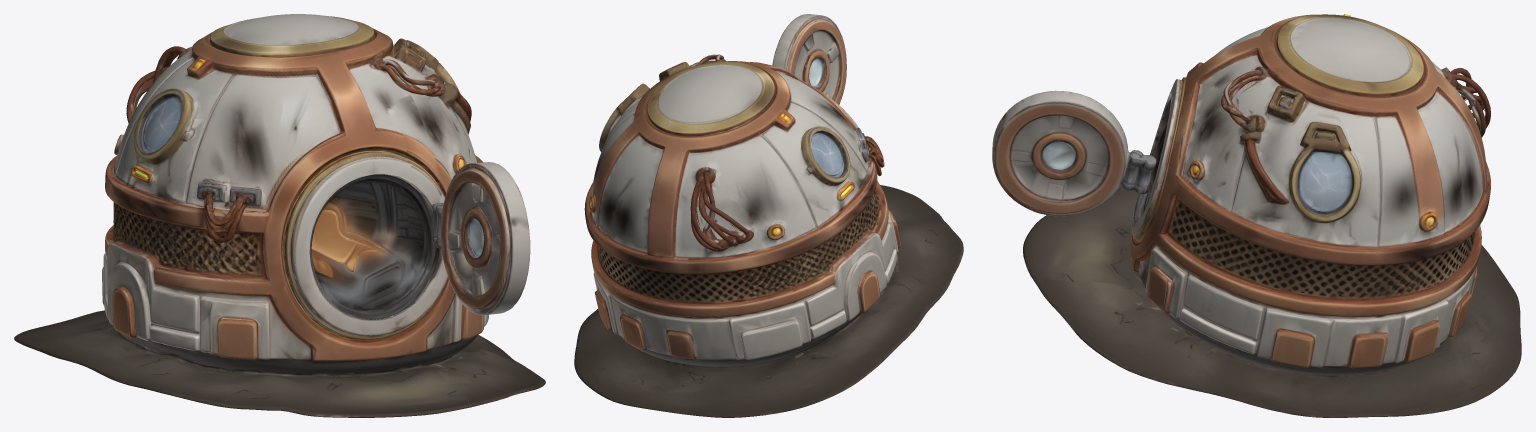
The model's file is escape_module.glb.
3 renders of one model, left to right at view 1: azimuth 30°, elevation 25°; view 2: azimuth 150°, elevation 25°; view 3: azimuth 270°, elevation 25°, orthographic. The views are drawn at different scales.
Visible parts, largest first — view 1: node_0; view 2: node_0; view 3: node_0.
Part boxes in pixels (x1,y1,x2,y2): node_0: [14, 14, 545, 417]; node_0: [574, 14, 963, 417]; node_0: [992, 14, 1521, 417].
Bounding box in the file's own units: 0.7975 × 0.6607 × 0.9863.
1 material, 1 textured.
